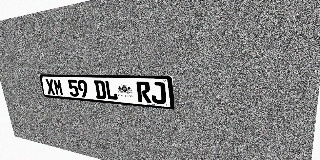plate: (39, 74, 174, 109)
